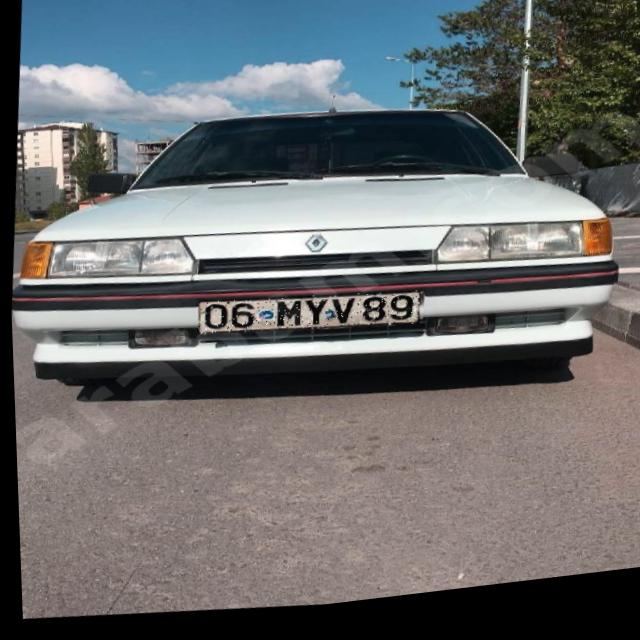license_plate: (194, 285, 421, 354)
